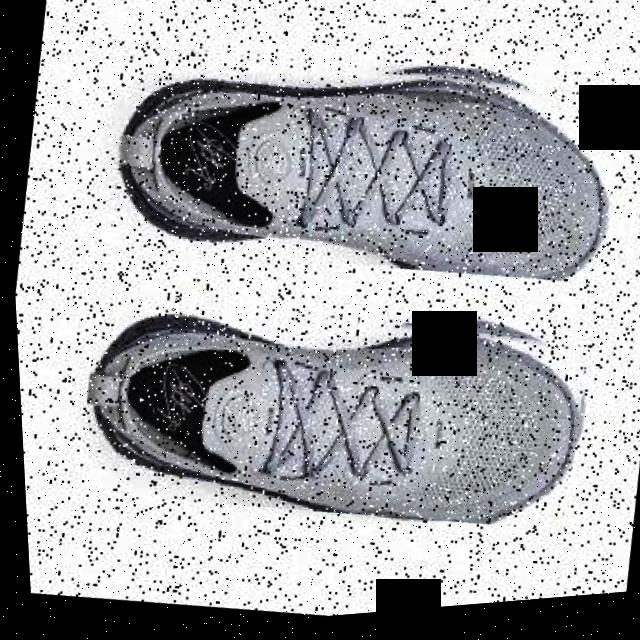shoe: (94, 8, 632, 326), (64, 257, 595, 571)
